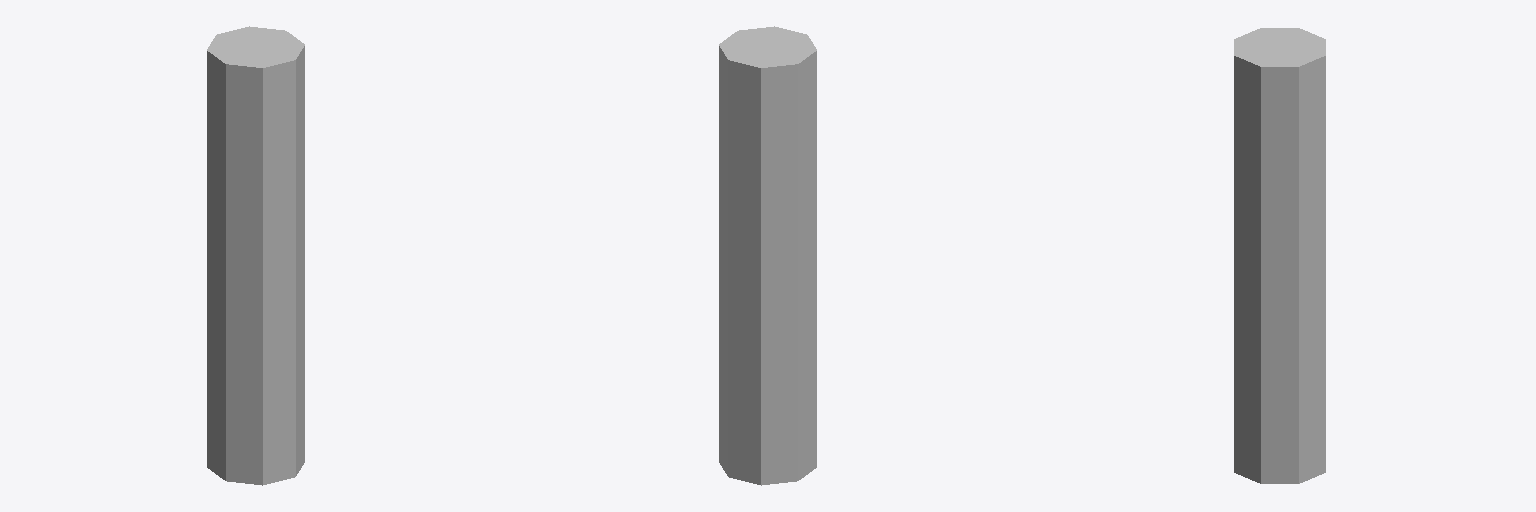
The model's file is Prop_Bridge_Log_Post_Support.obj.
3 views of the same model, side by side, from view 1: azimuth 30°, elevation 25°; view 2: azimuth 150°, elevation 25°; view 3: azimuth 270°, elevation 25° (orthographic).
Parts seen in each view (by area): view 1: object1; view 2: object1; view 3: object1.
Boxes of the visible parts, x1=… form: object1: x1=207, y1=26, x2=304, y2=485; object1: x1=719, y1=26, x2=816, y2=485; object1: x1=1234, y1=28, x2=1325, y2=483.
Size of the model in its own units: 0.2 by 1 by 0.2.